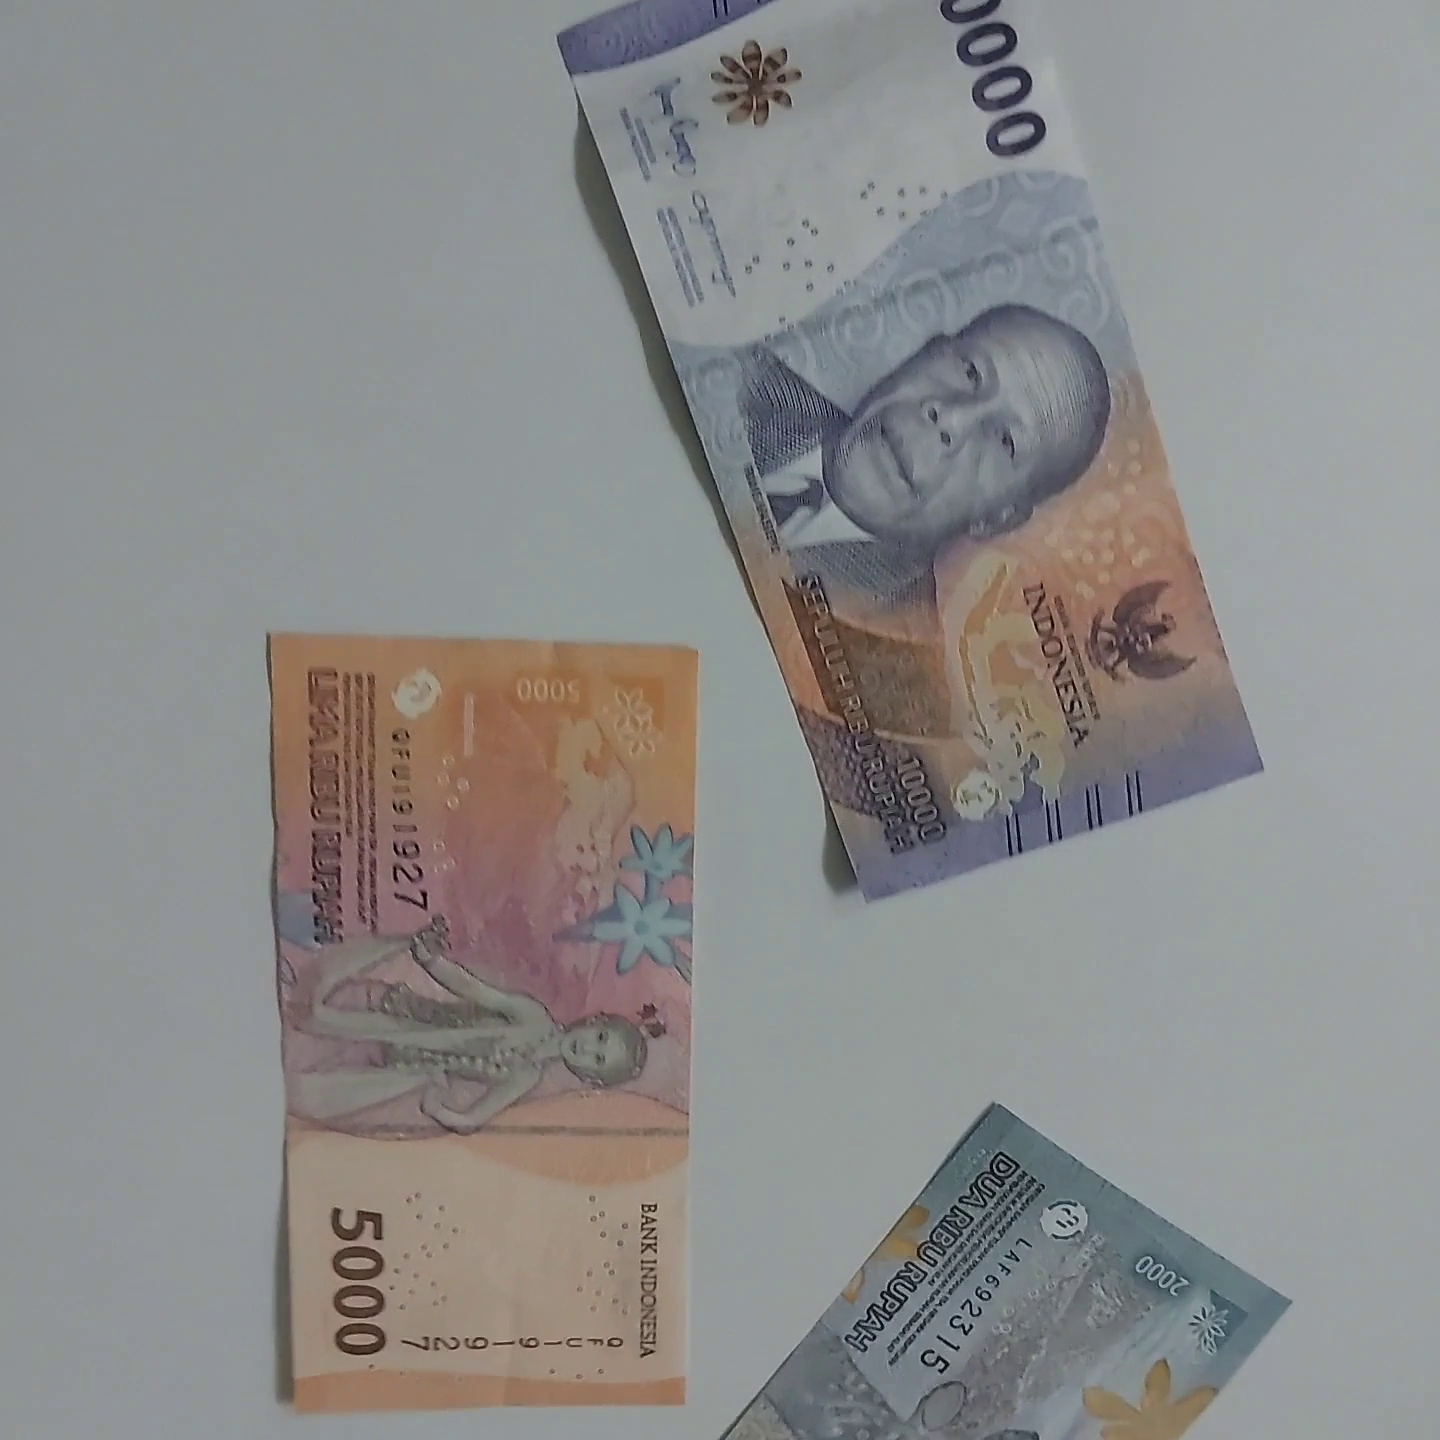10k: (506, 0, 1275, 906)
2k: (719, 1114, 1375, 1440)
5k: (264, 640, 688, 1408)
